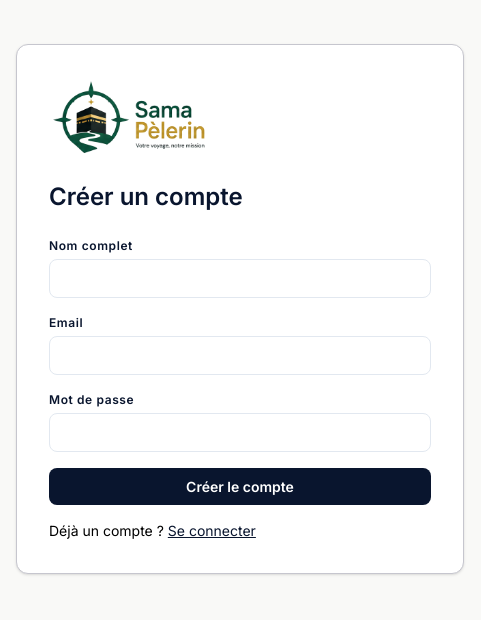
Test: Signup › n’affiche pas l’ancien succès à côté d’une nouvelle erreur
Type "Awa Diop" into the field labelled "Nom complet".
click(240, 278); type("Awa Diop")  # box left=49, top=259, right=431, bottom=298
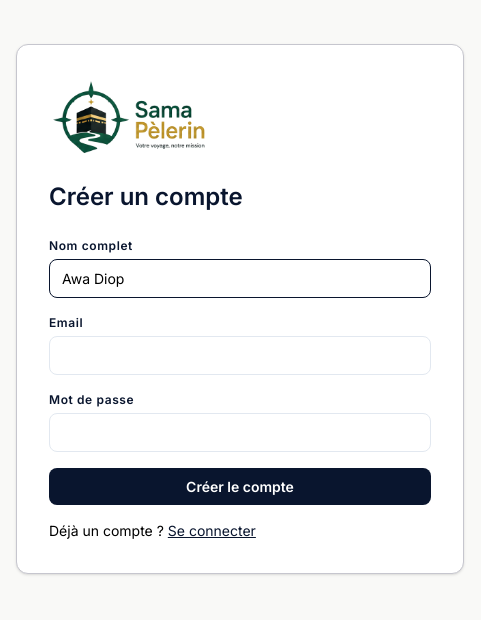
Type "awa@example.com" into the field labelled "Email".
click(240, 356); type("awa@example.com")  # box left=49, top=336, right=431, bottom=375
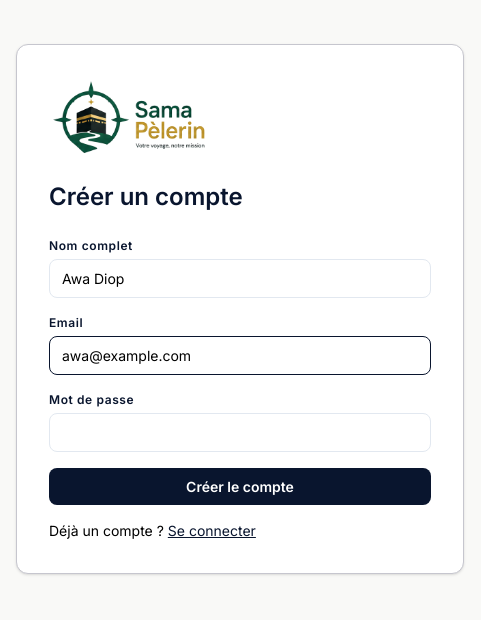
Type "motdepasse1" into the password field labelled "Mot de passe".
click(240, 432); type("motdepasse1")  # box left=49, top=413, right=431, bottom=452
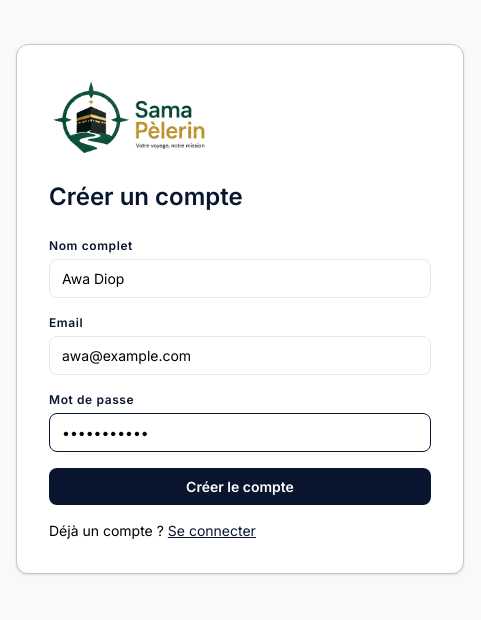
Click the button "Créer le compte".
click(240, 486)  # box left=49, top=468, right=431, bottom=505
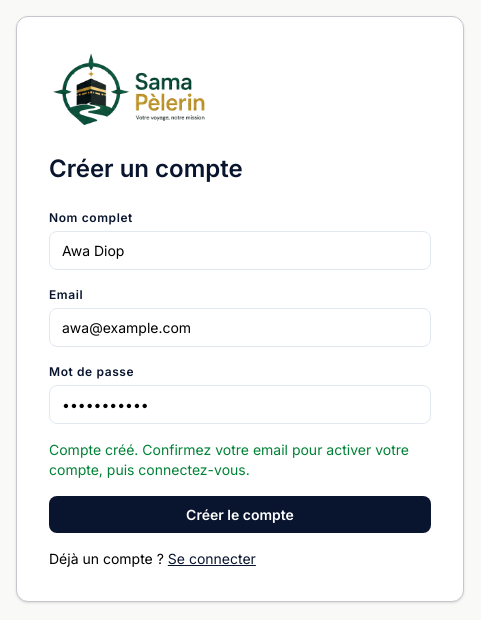
Expected: the text "Compte créé" is shown, left=49, top=441, right=409, bottom=478
Click the button "Créer le compte".
click(240, 514)  # box left=49, top=496, right=431, bottom=533
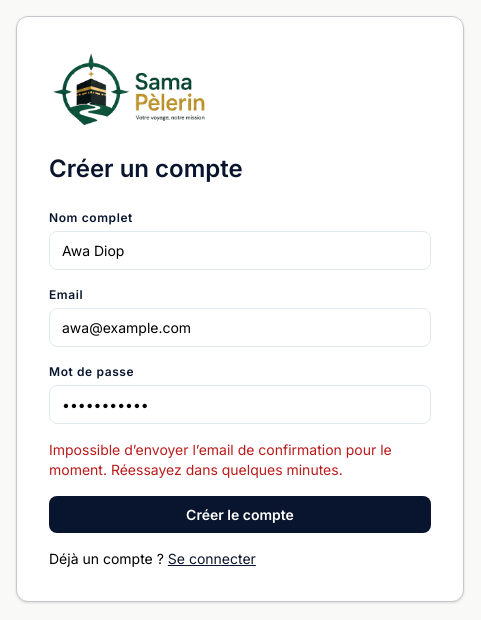
Expected: the text "Impossible d’envoyer l’email de confirmation" is shown, left=49, top=441, right=392, bottom=478
Expected: the text "Compte créé" is gone
